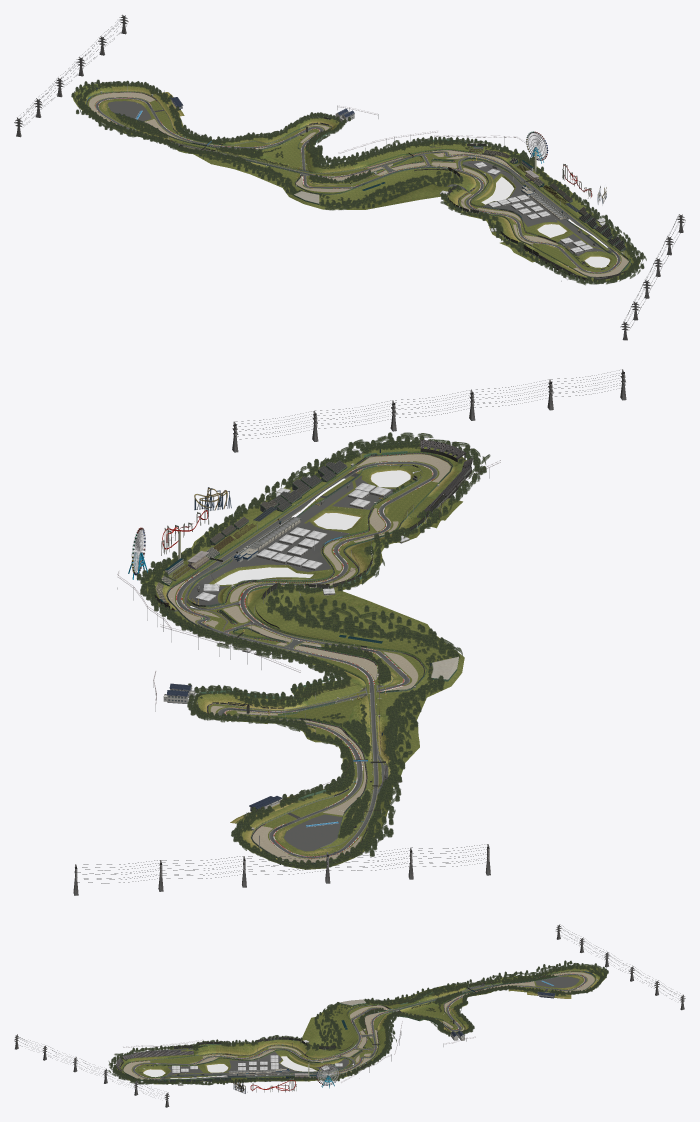
The model's file is suzuka.glb.
3 renders of one model, top to bottom at view 1: azimuth 30°, elevation 25°; view 2: azimuth 150°, elevation 25°; view 3: azimuth 270°, elevation 25°, orthographic. The views are drawn at different scales.
Visible parts, largest first — view 1: suzuka_2001_0; view 2: suzuka_2001_0, suzuka_2001_groove_1, Track_Kerbs_Visual; view 3: suzuka_2001_0, suzuka_ferriswheel_2.
Boxes of the visible parts, bbox=[...] form: suzuka_2001_0: bbox=[14, 14, 685, 340]; suzuka_2001_0: bbox=[73, 369, 626, 895]; suzuka_2001_groove_1: bbox=[177, 462, 435, 857]; Track_Kerbs_Visual: bbox=[176, 461, 433, 858]; suzuka_2001_0: bbox=[14, 924, 685, 1107]; suzuka_ferriswheel_2: bbox=[316, 1064, 339, 1085].
Size of what is drawn, in the model's own units: 1671 by 158 by 2972.
100 materials, 99 textured.
